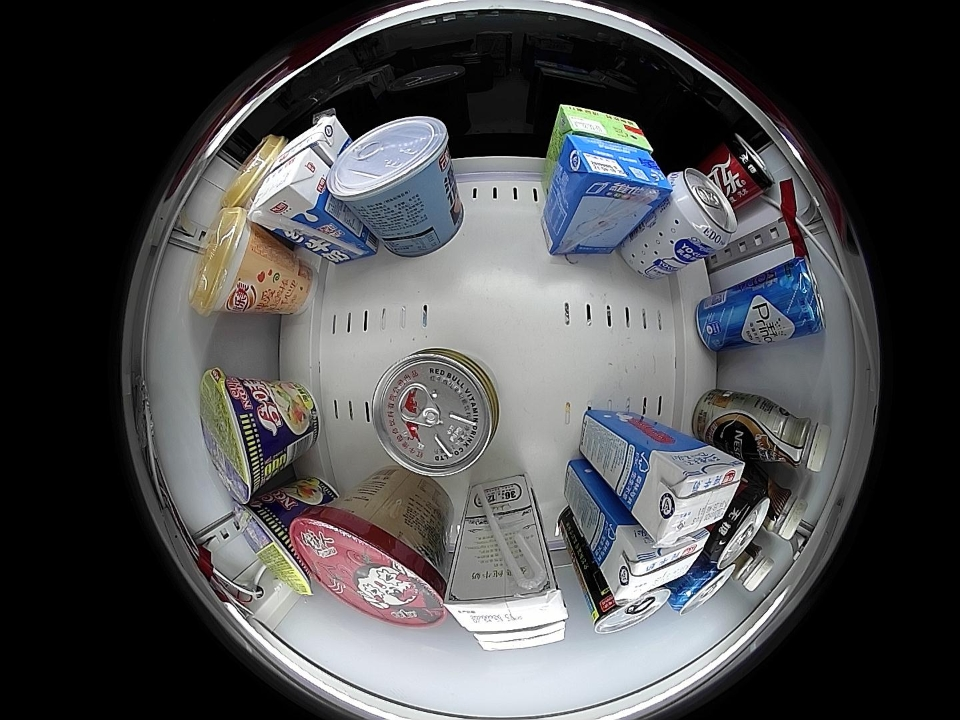haitai: (327, 115, 451, 215)
heweidao: (199, 367, 271, 505), (232, 496, 315, 595)
hongniu2: (372, 348, 500, 477)
jindian: (446, 568, 568, 634), (473, 621, 567, 651)
kafei: (742, 402, 831, 472), (755, 473, 808, 538), (730, 541, 775, 593)
lingdukele: (707, 493, 769, 567), (717, 133, 773, 196)
niunai: (639, 443, 747, 544), (606, 521, 710, 601), (250, 146, 329, 229), (273, 113, 347, 171)
qingdaowangzi-2: (772, 258, 825, 340), (668, 557, 735, 615)
rusuanjunqishui: (663, 167, 738, 251)
suanlafen: (293, 501, 448, 629)
wanglaoji: (553, 104, 654, 153)
weitanai: (556, 134, 670, 214)
yezhi: (590, 584, 671, 635)
youlemei: (188, 205, 264, 316), (224, 134, 283, 209)
